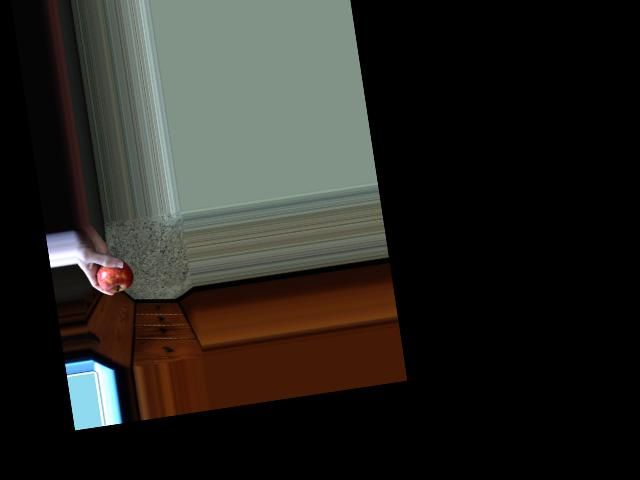apple: (89, 251, 135, 297)
